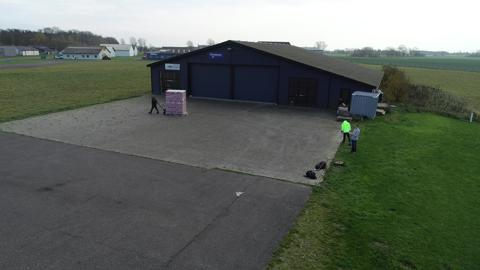RockwoolPallet: (165, 89, 188, 116)
